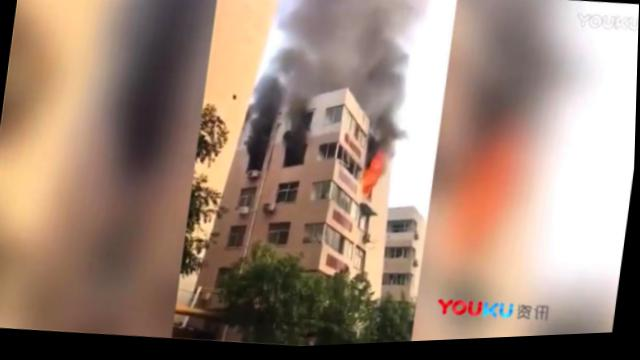fire: (367, 158, 384, 187), (361, 171, 375, 200)
